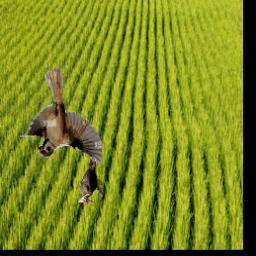Sparrow: (19, 68, 102, 166)
Woodpecker: (79, 157, 104, 204)
